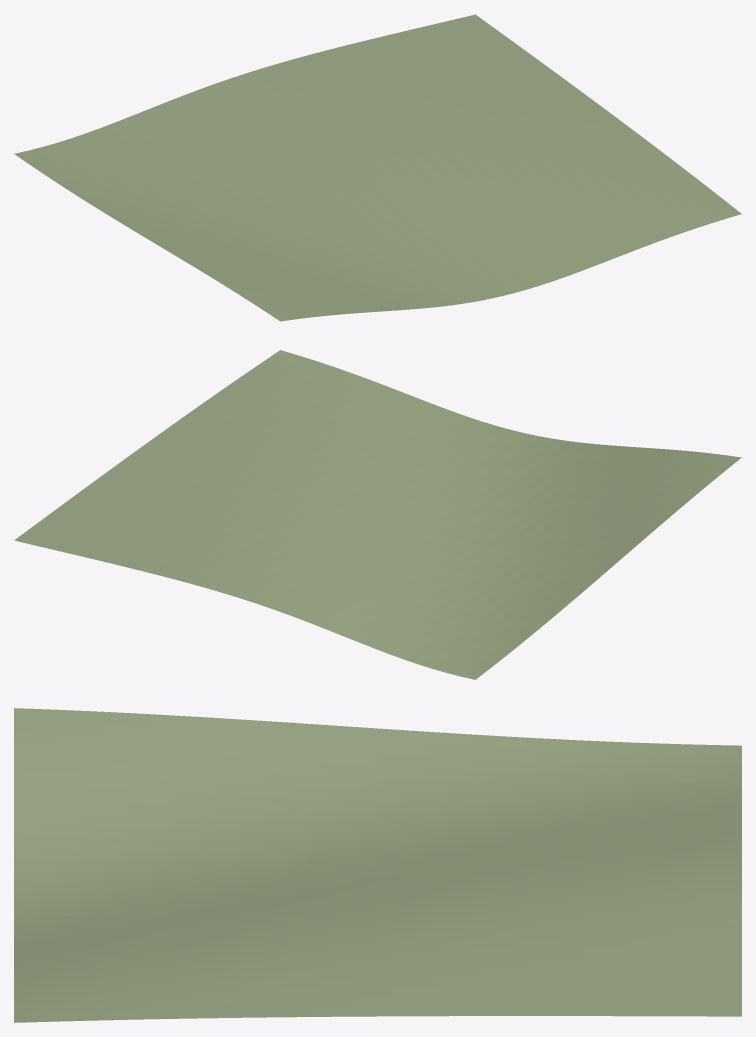
File: desert-13-23.glb
3 views of the same model, one above another, from view 1: azimuth 30°, elevation 25°; view 2: azimuth 150°, elevation 25°; view 3: azimuth 270°, elevation 25° (orthographic). The views are drawn at different scales.
Visible parts, largest first — view 1: desert-13-23; view 2: desert-13-23; view 3: desert-13-23.
Boxes of the visible parts, x1=… form: desert-13-23: x1=14, y1=14, x2=741, y2=321; desert-13-23: x1=14, y1=350, x2=741, y2=679; desert-13-23: x1=14, y1=708, x2=741, y2=1022.
Bounding box in the file's own units: 512 × 30.69 × 512.
